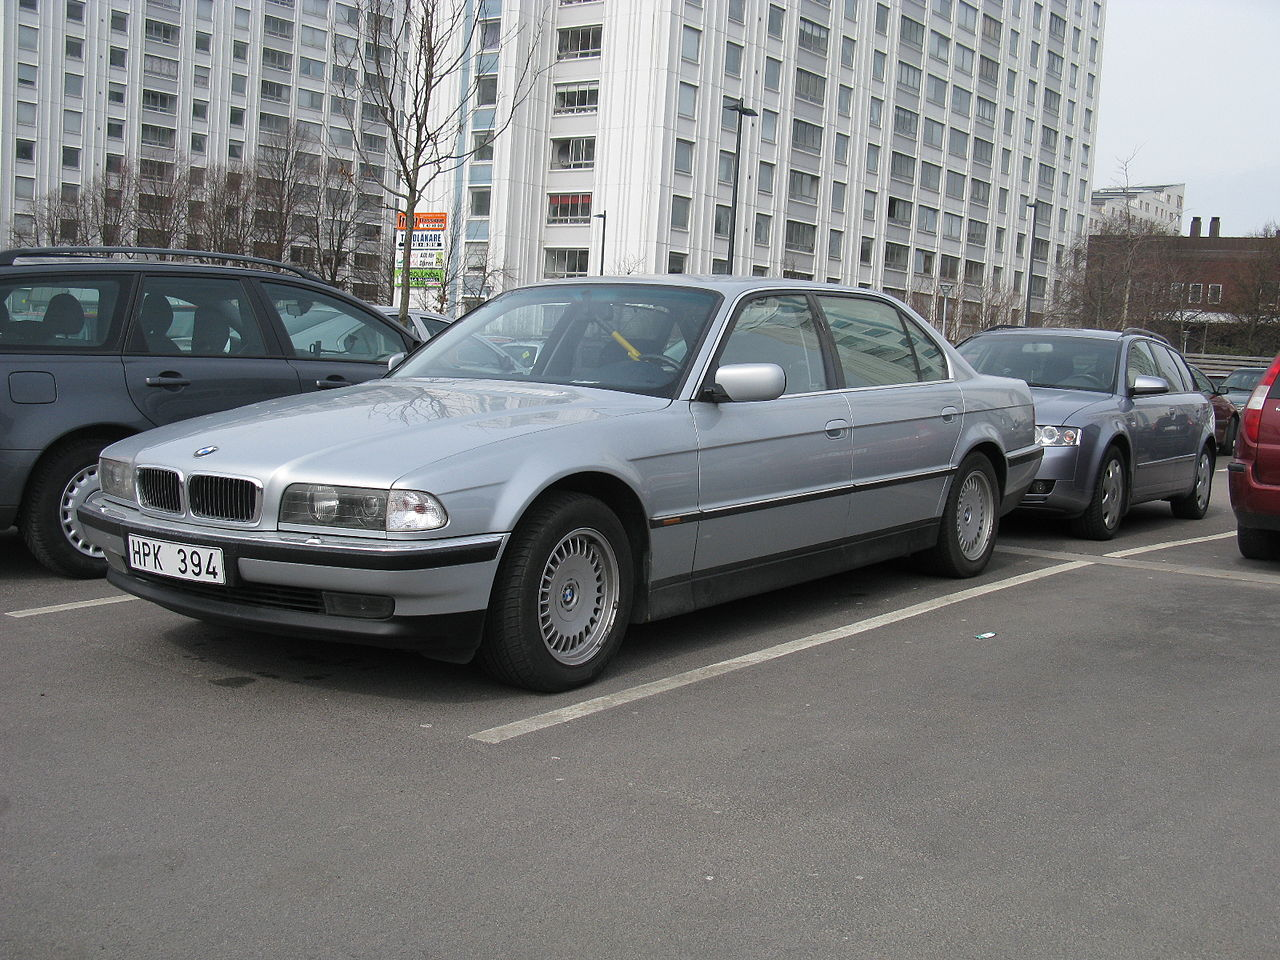plate: (126, 531, 228, 588)
